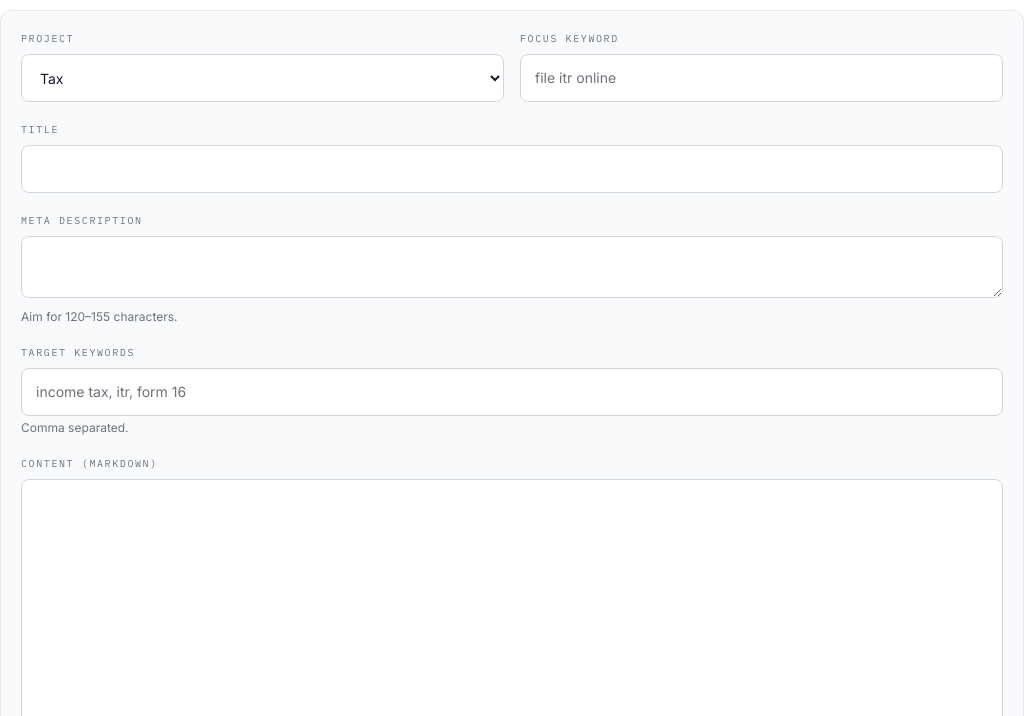
Test: SeoPostsPanel › inserts a suggested product link into the body
The width and height of the screenshot is (1024, 716).
Type "File ITR online" into the field labelled "Title" at (512, 169), box left=21, top=145, right=1003, bottom=193
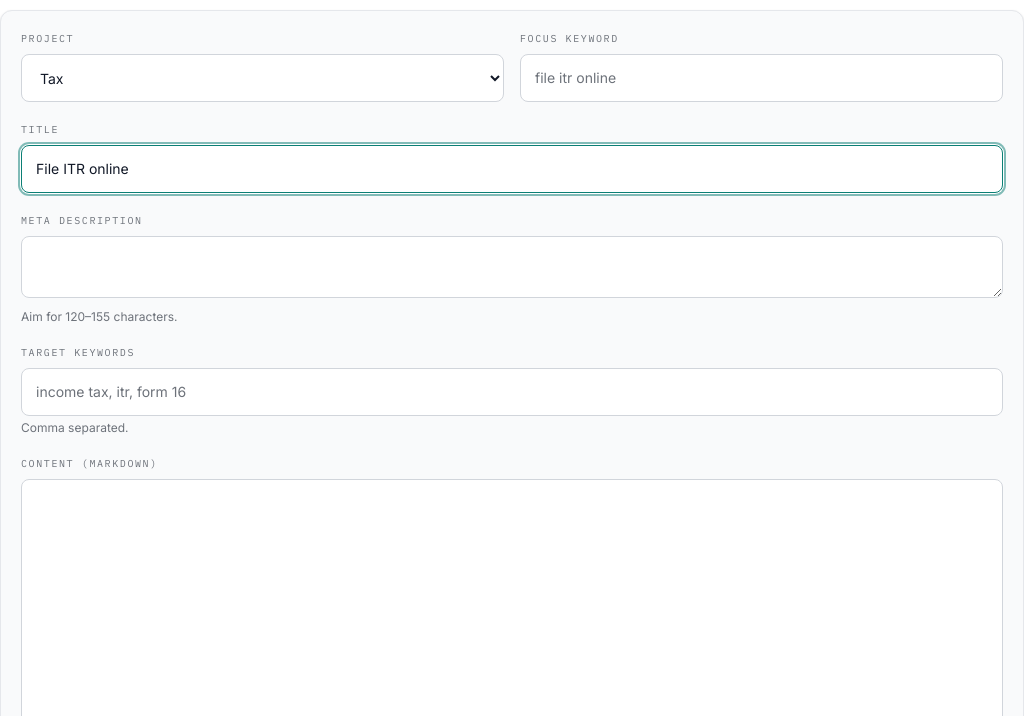
Type "income tax, itr" into the field labelled "Target keywords" at (512, 392), box left=21, top=368, right=1003, bottom=416
(page scrolled)
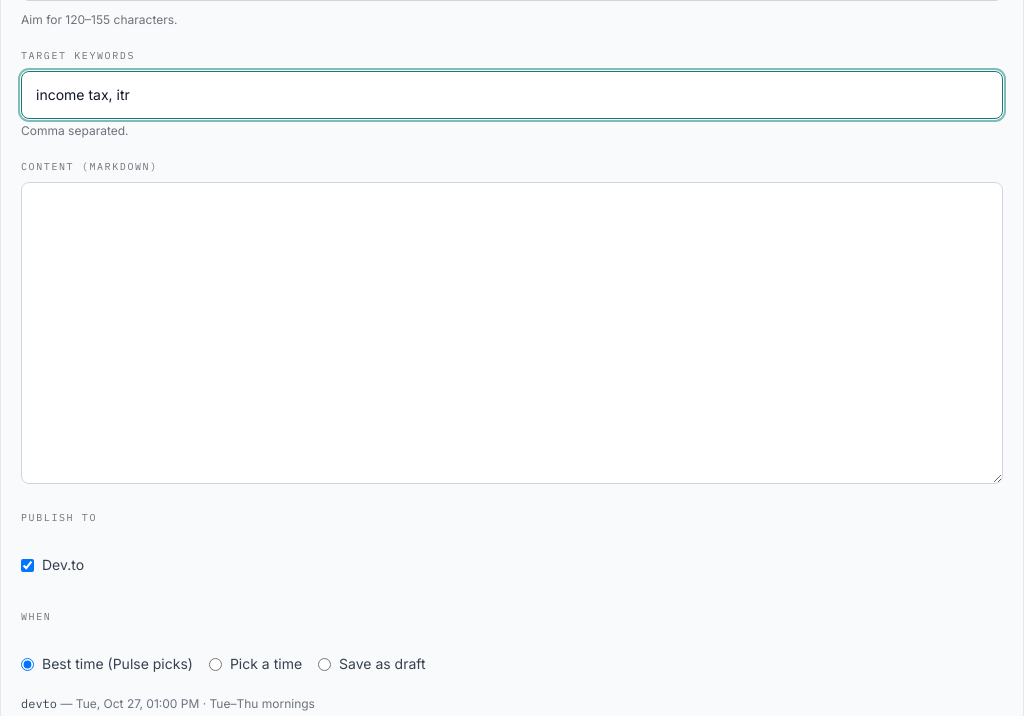
Type "Filing income tax is easy." into the text box labelled "Content (Markdown)" at (512, 332), box left=21, top=182, right=1003, bottom=484
(page scrolled)
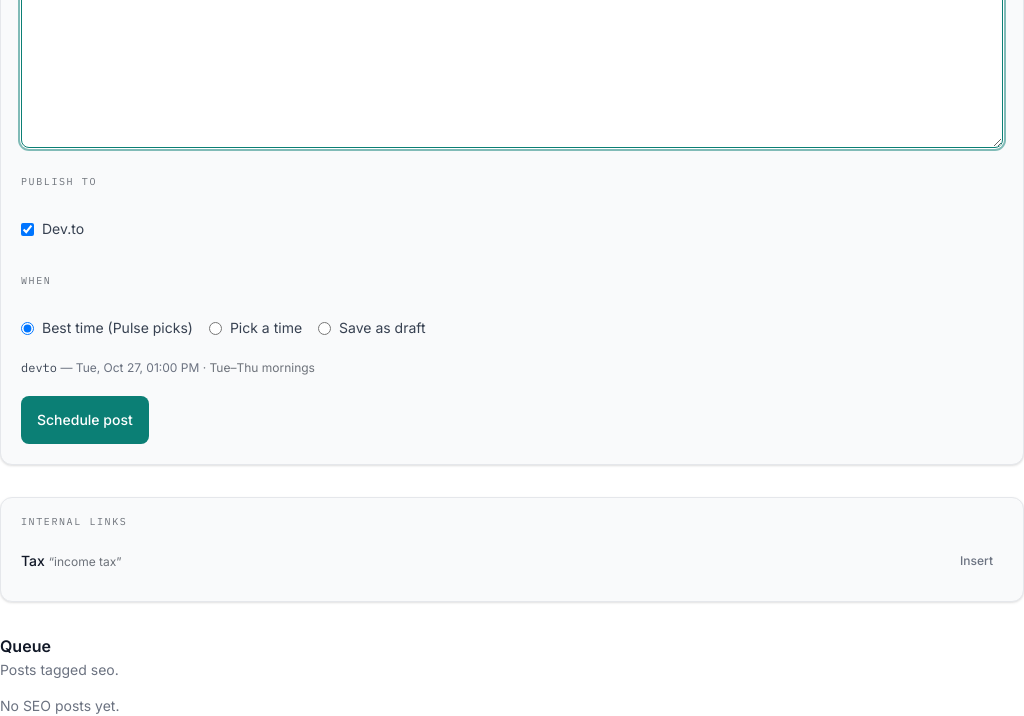
Click the button with aria-label "Link Tax" at (977, 561), box left=950, top=537, right=1003, bottom=585
(page scrolled)
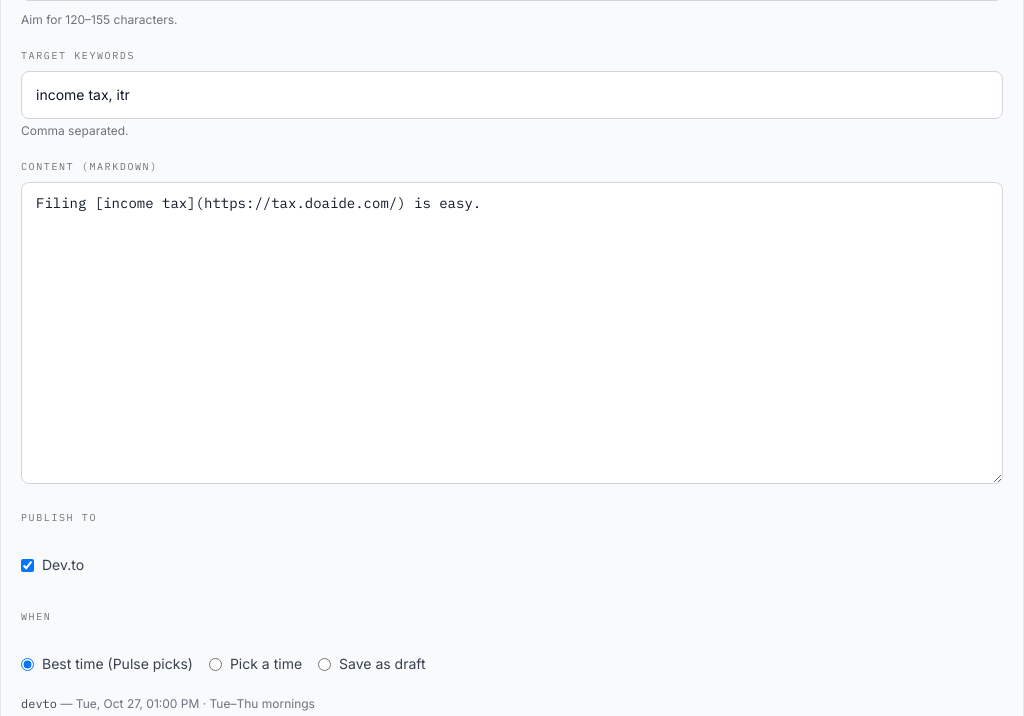
Expected: the text box labelled "Content (Markdown)" holds "Filing [income tax](https://tax.doaide.com/) is easy.", left=21, top=182, right=1003, bottom=484
